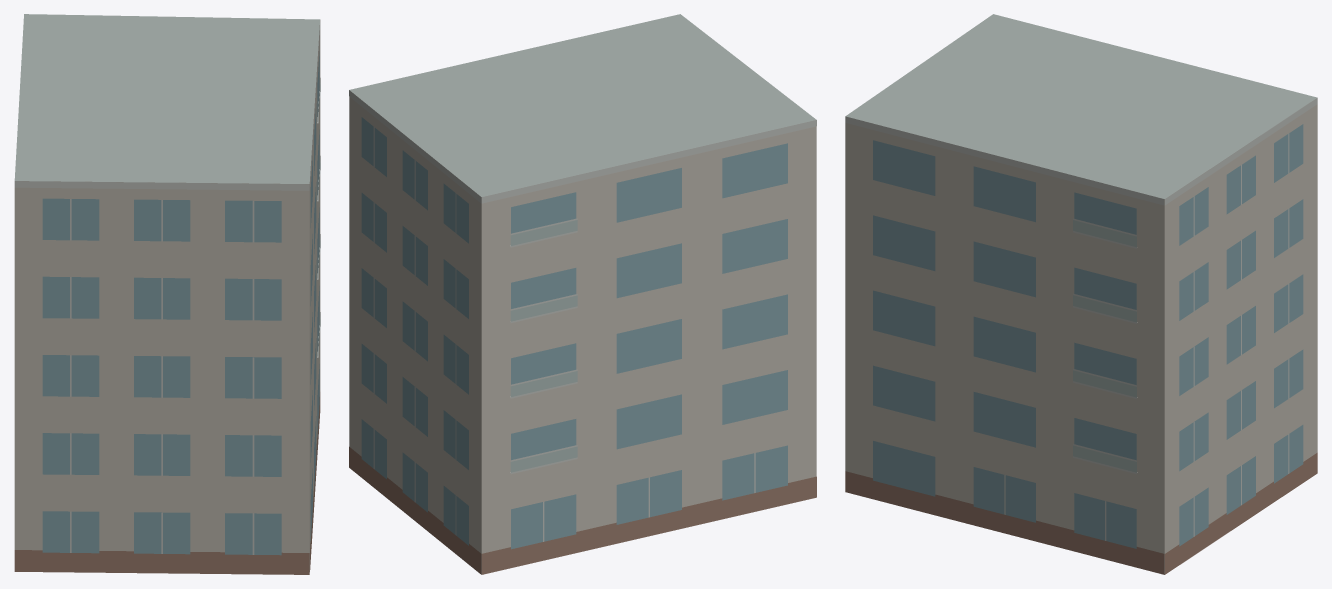
The model's file is survey-upis-32675444.glb.
The picture shows the model from 3 angles, left to right: view 1: azimuth 30°, elevation 25°; view 2: azimuth 150°, elevation 25°; view 3: azimuth 270°, elevation 25°; orthographic projection. The views are drawn at different scales.
Visible parts, largest first — view 1: survey-upis-32675444.tmp; view 2: survey-upis-32675444.tmp; view 3: survey-upis-32675444.tmp.
Boxes of the visible parts, x1,y1,x2,y2 form: survey-upis-32675444.tmp: (14, 14, 320, 574); survey-upis-32675444.tmp: (349, 14, 816, 574); survey-upis-32675444.tmp: (845, 14, 1317, 574).
Bounding box in the file's own units: 15.07 × 14.25 × 16.25.
